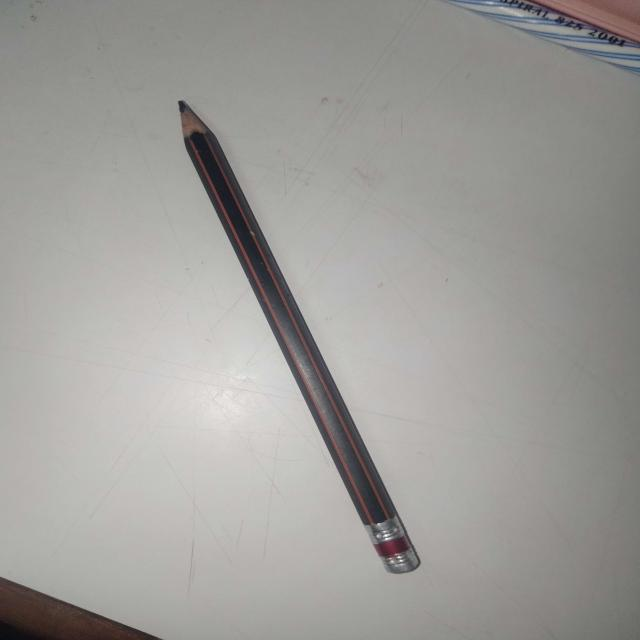pen_pencil: (150, 90, 458, 580)
